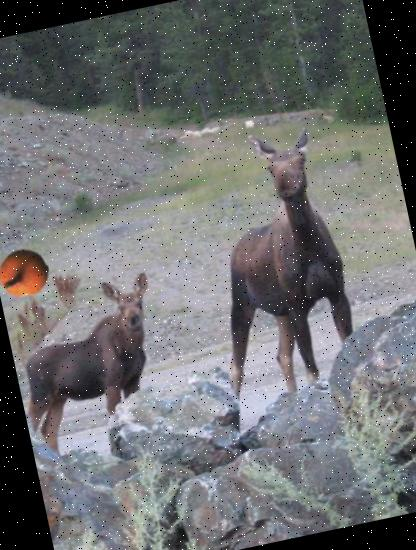Granadilla: (0, 243, 54, 303)
